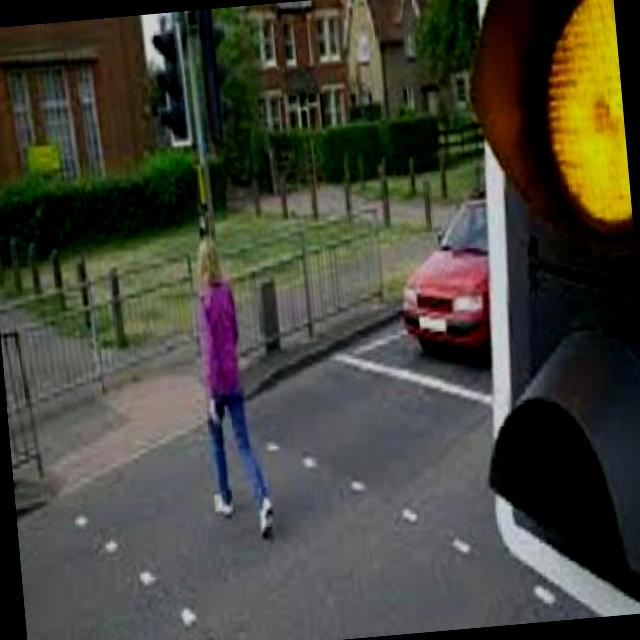Person: (177, 228, 282, 545)
